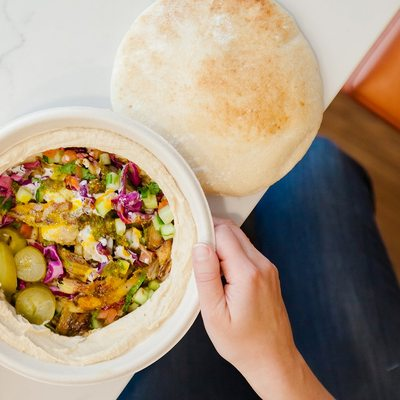sushi: (0, 111, 213, 373)
